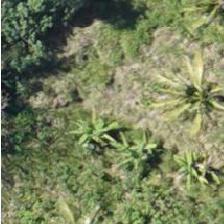coconut_tree: (161, 50, 223, 140)
